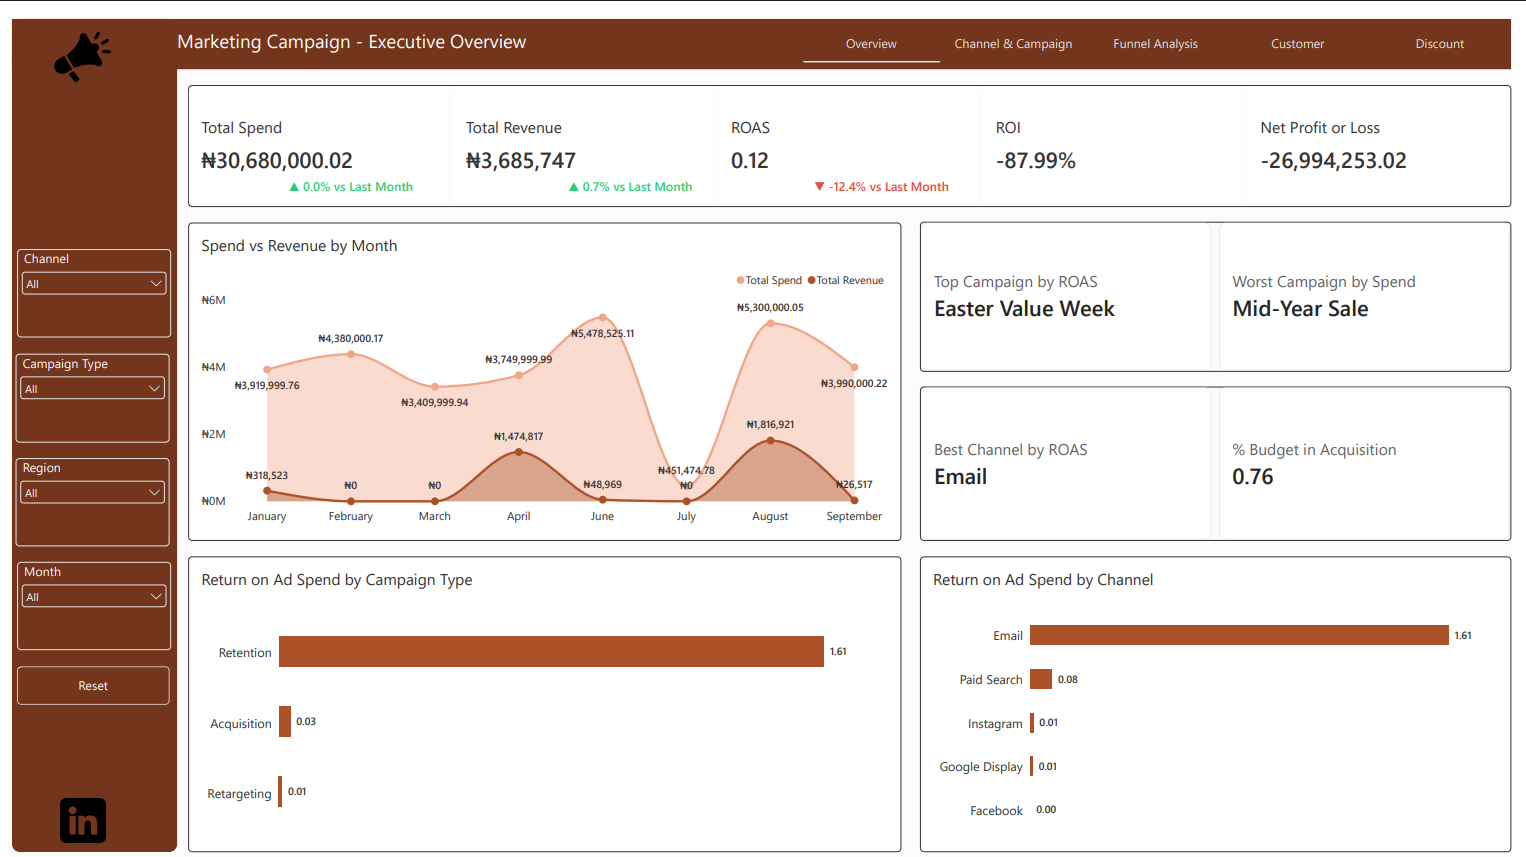

What the dashboard file says about the page in this screenshot:
{"tool":"powerbi","page":{"name":"Overview","canvas":[1920,1080],"ordinal":0},"visuals":[{"type":"shape","box":[0,0,212.3,1066.8],"z":0},{"type":"shape","box":[0,0,1919.6,65.1],"z":1000},{"type":"textbox","box":[212.3,12,611.3,39.4],"z":2000},{"type":"cardVisual","fields":{"Data":["Measures Page 1.Total Spend","Measures Page 1.Total Revenue","Measures Page 1.ROAS","Measures Page 1.ROI","Measures Page 1.Net Profit or Loss"]},"box":[226,85,1693.5,155.8],"z":3000},{"type":"areaChart","title":"Spend vs Revenue by Month","fields":{"Category":["Calendar Date.Month Name"],"Y":["Measures Page 1.Total Spend","Measures Page 1.Total Revenue"]},"box":[226,260.9,912.7,407.5],"z":4000},{"type":"cardVisual","fields":{"Data":["Measures Page 1.Top Campaign by ROAS","Measures Page 1.Worst Campaign by Spend with Zero Revenue"]},"box":[1162.7,260.3,756.9,191.8],"z":5000},{"type":"cardVisual","fields":{"Data":["Measures Page 1.Best Channel by ROAS","Measures Page 1.% Budget in Acquisition"]},"box":[1162.7,470.9,756.9,196.9],"z":6000},{"type":"barChart","title":"Return on Ad Spend by Campaign Type","fields":{"Category":["Campaigns.Campaign_Type"],"Y":["Measures Page 1.ROAS"]},"box":[226,688.4,912.7,378.4],"z":7000},{"type":"barChart","title":"Return on Ad Spend by Channel","fields":{"Category":["Campaigns.Channel"],"Y":["Measures Page 1.ROAS"]},"box":[1162.7,688.4,756.9,378.4],"z":8000},{"type":"slicer","fields":{"Values":["Campaigns.Channel"]},"box":[7.1,295.1,196.9,113],"z":9000},{"type":"slicer","fields":{"Values":["Campaigns.Campaign_Type"]},"box":[5.4,428.5,196.9,113],"z":10000},{"type":"slicer","fields":{"Values":["Interactions.Region"]},"box":[5.4,561.9,196.9,113],"z":11000},{"type":"image","box":[61.6,998.3,58.2,56.5],"z":12000},{"type":"image","box":[34.2,12,113,73.6],"z":13000},{"type":"cardVisual","fields":{"Data":["Measures Page 1.Revenue MoM % Change"]},"box":[696.9,188.4,202.1,53.1],"z":14000},{"type":"cardVisual","fields":{"Data":["Measures Page 1.Spend MoM % Change"]},"box":[339.1,188.4,214,53.1],"z":15000},{"type":"cardVisual","fields":{"Data":["Measures Page 1.ROAS MoM % Change 2"]},"box":[1012,188.4,210.6,53.1],"z":16000},{"type":"slicer","fields":{"Values":["Calendar Date.Month Name"]},"box":[7.1,695.4,196.9,113],"z":17000},{"type":"pageNavigator","box":[1011.7,7.5,908.6,49.3],"z":18000},{"type":"actionButton","box":[6.8,828.8,195.2,49.7],"z":18001}]}

Visuals, with their boxes in screenshot pixels (x1, y1, x2, y2), scaled from the page's 1920x1080 canvas onto the 1526x857 screenshot:
shape: 0/0/169/847
shape: 0/0/1525/52
textbox: 169/10/655/41
cardVisual - Measures Page 1.Total Spend x Measures Page 1.Total Revenue: 180/67/1525/191
"Spend vs Revenue by Month" areaChart: 180/207/905/530
cardVisual - Measures Page 1.Top Campaign by ROAS x Measures Page 1.Worst Campaign by Spend with Zero Revenue: 924/207/1525/359
cardVisual - Measures Page 1.Best Channel by ROAS x Measures Page 1.% Budget in Acquisition: 924/374/1525/530
"Return on Ad Spend by Campaign Type" barChart: 180/546/905/847
"Return on Ad Spend by Channel" barChart: 924/546/1525/847
slicer - Campaigns.Channel: 6/234/162/324
slicer - Campaigns.Campaign_Type: 4/340/161/430
slicer - Interactions.Region: 4/446/161/536
image: 49/792/95/837
image: 27/10/117/68
cardVisual - Measures Page 1.Revenue MoM % Change: 554/149/715/192
cardVisual - Measures Page 1.Spend MoM % Change: 270/149/440/192
cardVisual - Measures Page 1.ROAS MoM % Change 2: 804/149/972/192
slicer - Calendar Date.Month Name: 6/552/162/641
pageNavigator: 804/6/1525/45
actionButton: 5/658/161/697
